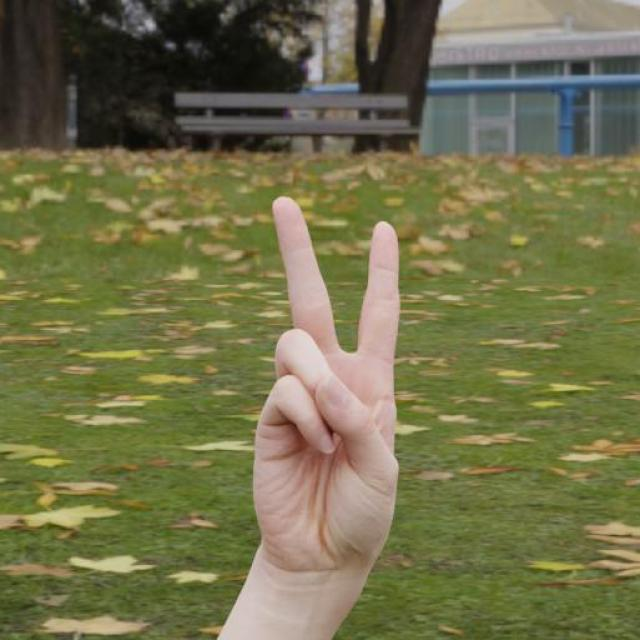V: (246, 192, 409, 574)
